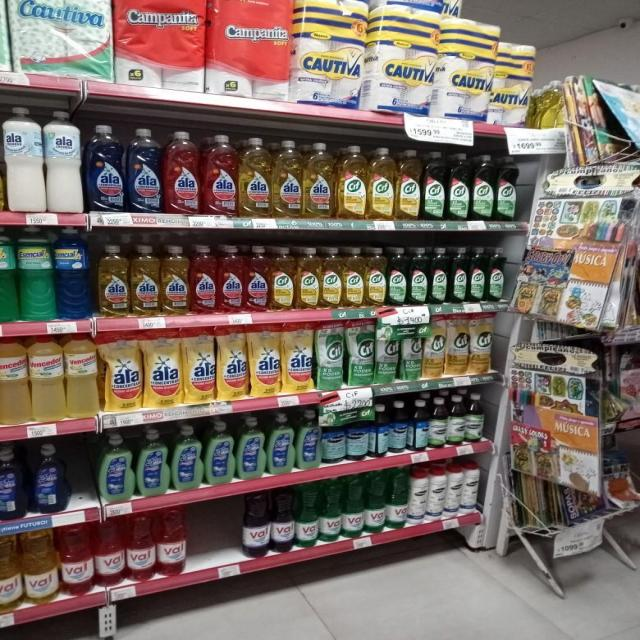ala_conc_amarillo: (238, 136, 272, 218), (272, 139, 302, 219), (304, 141, 334, 219), (97, 244, 129, 317), (130, 244, 160, 316), (161, 244, 189, 316)
ala_conc_azul: (87, 124, 125, 212), (127, 127, 162, 213)
ala_conc_rojo: (163, 130, 200, 216), (203, 134, 237, 217), (190, 244, 217, 314), (218, 244, 245, 314), (245, 246, 269, 312)
ala_crem_blanco: (3, 106, 44, 213), (46, 109, 84, 213)
ala_sachet_amarillo: (103, 330, 142, 412), (144, 328, 182, 408), (182, 326, 215, 404), (282, 321, 314, 393), (250, 323, 280, 397)
cif_conc_bot_amarilla: (336, 144, 366, 220), (368, 146, 395, 221), (396, 148, 421, 220), (270, 246, 294, 311), (296, 247, 320, 310), (343, 246, 365, 308), (365, 246, 387, 307), (321, 246, 342, 308)
cif_conc_botella_verde: (422, 150, 446, 222), (496, 155, 519, 222), (448, 152, 470, 221), (472, 154, 494, 221), (388, 247, 407, 306), (409, 248, 428, 306), (429, 247, 448, 304), (487, 247, 506, 302), (450, 247, 468, 303), (469, 247, 486, 303)
cif_conc_sachet_amarillo: (469, 312, 494, 375), (424, 314, 445, 380), (446, 313, 468, 376)
cif_conc_sachet_verde: (316, 320, 344, 390), (346, 319, 374, 387), (375, 318, 399, 384), (400, 317, 422, 381)
zorro: (136, 428, 168, 497), (171, 424, 202, 491), (205, 421, 235, 485), (0, 446, 25, 520), (236, 416, 265, 479), (267, 412, 294, 475)
